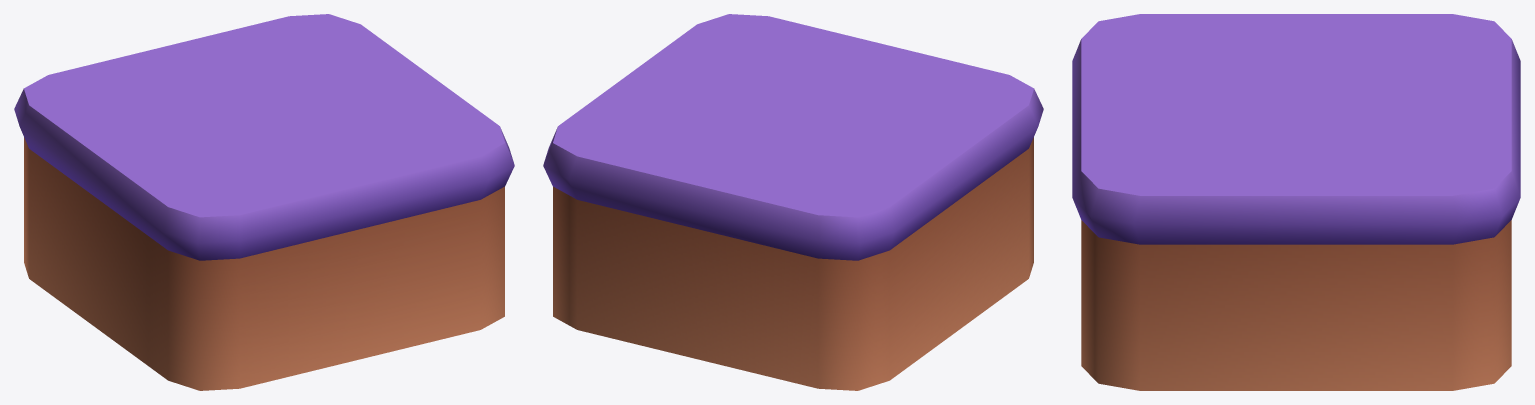
Rendered from pfa_block-grass-large.glb.
3 renders of one model, left to right at view 1: azimuth 30°, elevation 25°; view 2: azimuth 150°, elevation 25°; view 3: azimuth 270°, elevation 25°, orthographic. The views are drawn at different scales.
Parts seen in each view (by area): view 1: block-grass-large; view 2: block-grass-large; view 3: block-grass-large.
Part boxes in pixels (x1,y1,x2,y2): block-grass-large: (14,14,514,390); block-grass-large: (543,14,1043,390); block-grass-large: (1072,14,1520,390).
Size of the model in its own units: 2.08 by 1 by 2.08.
1 material, 1 textured.
